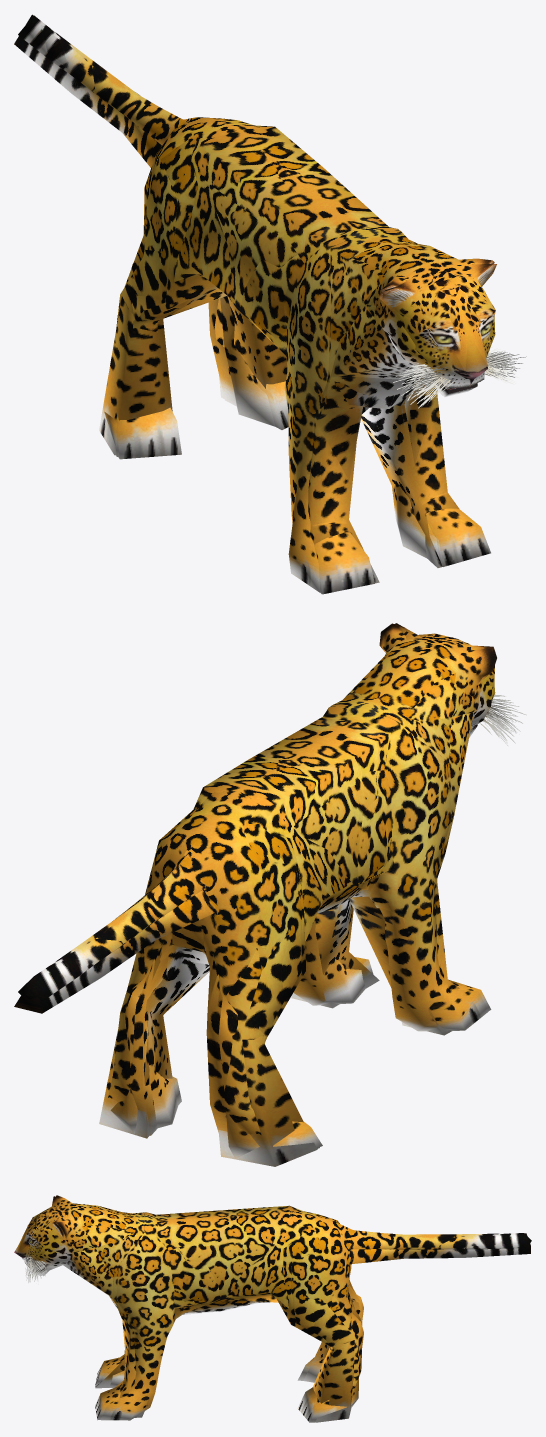
Rendered from JaguarAdult.obj.
3 renders of one model, top to bottom at view 1: azimuth 30°, elevation 25°; view 2: azimuth 150°, elevation 25°; view 3: azimuth 270°, elevation 25°, orthographic. The views are drawn at different scales.
Visible parts, largest first — view 1: Jaguar_Adult_M_LOD1:1; view 2: Jaguar_Adult_M_LOD1:1; view 3: Jaguar_Adult_M_LOD1:1.
Boxes of the visible parts, left/top/right/bottom form: Jaguar_Adult_M_LOD1:1: left=14, top=14, right=526, bottom=594; Jaguar_Adult_M_LOD1:1: left=14, top=623, right=526, bottom=1166; Jaguar_Adult_M_LOD1:1: left=14, top=1195, right=531, bottom=1422.
Size of the model in its own units: 1.04 by 1.61 by 4.01.
Materials: 7 (7 with a texture image).
